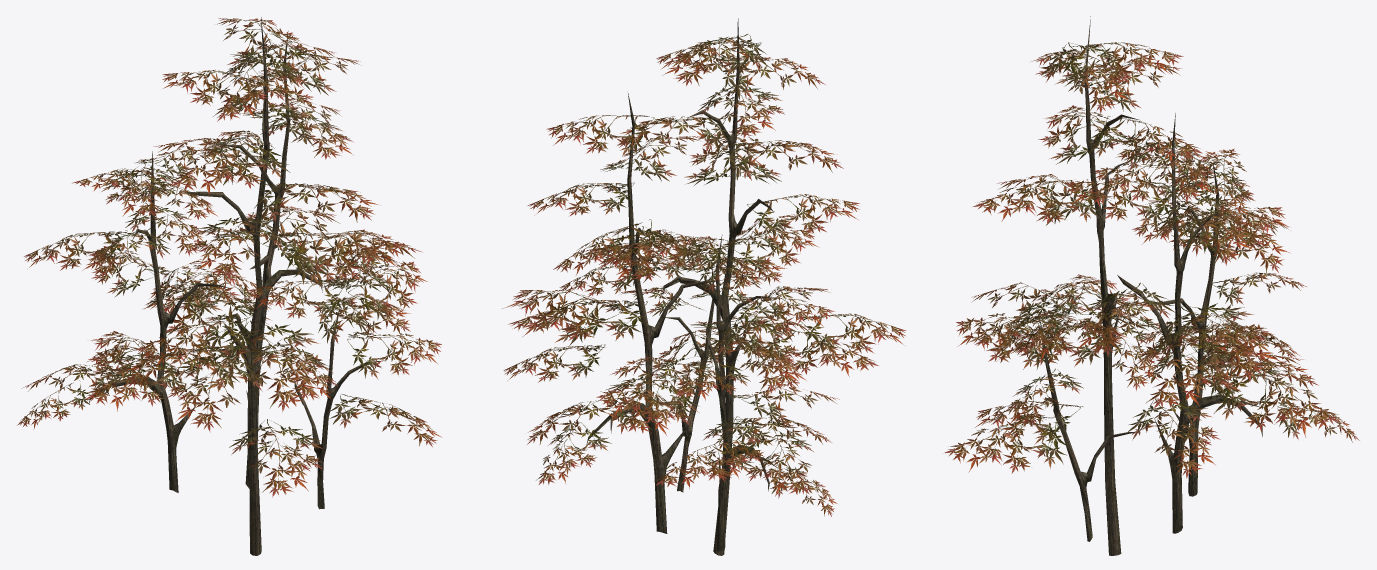
The model's file is bg_anh_foliage_maplebush01a_sm_ysi.FBX.
The picture shows the model from 3 angles, left to right: view 1: azimuth 30°, elevation 25°; view 2: azimuth 150°, elevation 25°; view 3: azimuth 270°, elevation 25°; orthographic projection. The views are drawn at different scales.
Parts seen in each view (by area): view 1: bg_anh_foliage_maplebush01a_sm_ysi; view 2: bg_anh_foliage_maplebush01a_sm_ysi; view 3: bg_anh_foliage_maplebush01a_sm_ysi.
Boxes of the visible parts, bbox=[...] form: bg_anh_foliage_maplebush01a_sm_ysi: bbox=[17, 17, 441, 555]; bg_anh_foliage_maplebush01a_sm_ysi: bbox=[502, 18, 906, 555]; bg_anh_foliage_maplebush01a_sm_ysi: bbox=[944, 16, 1359, 555].
Size of the model in its own units: 157 by 222 by 158.
